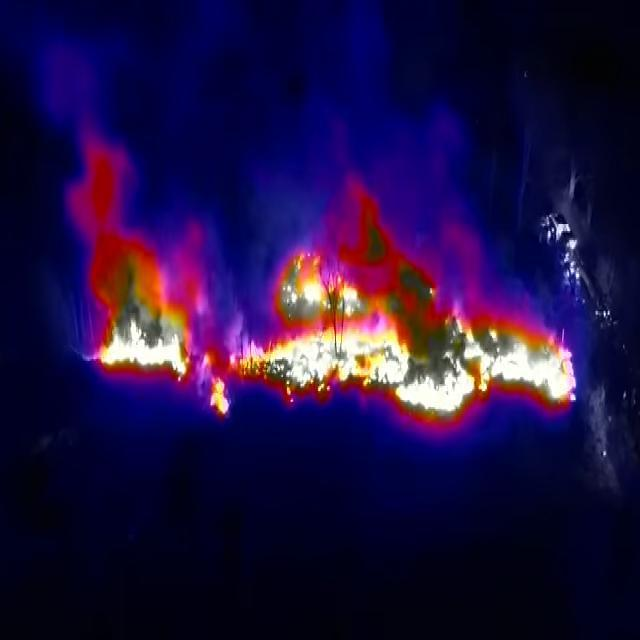fire: (209, 219, 578, 422), (90, 228, 198, 384)
